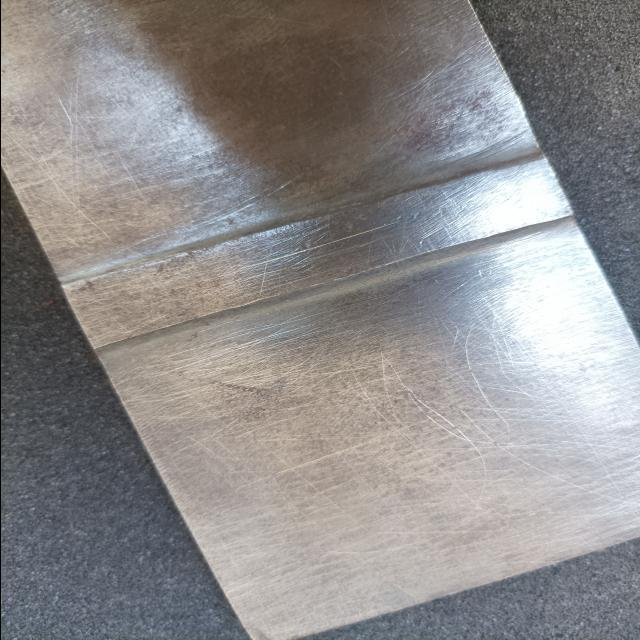defect: (235, 218, 406, 271)
